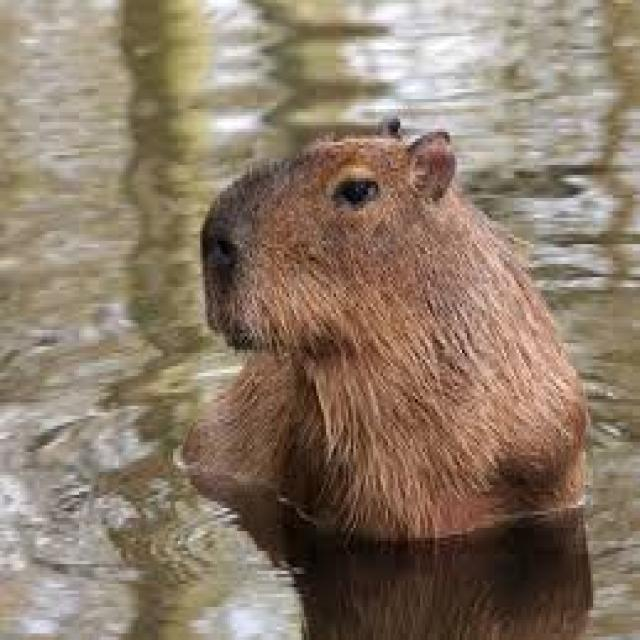capy: (187, 113, 594, 540)
